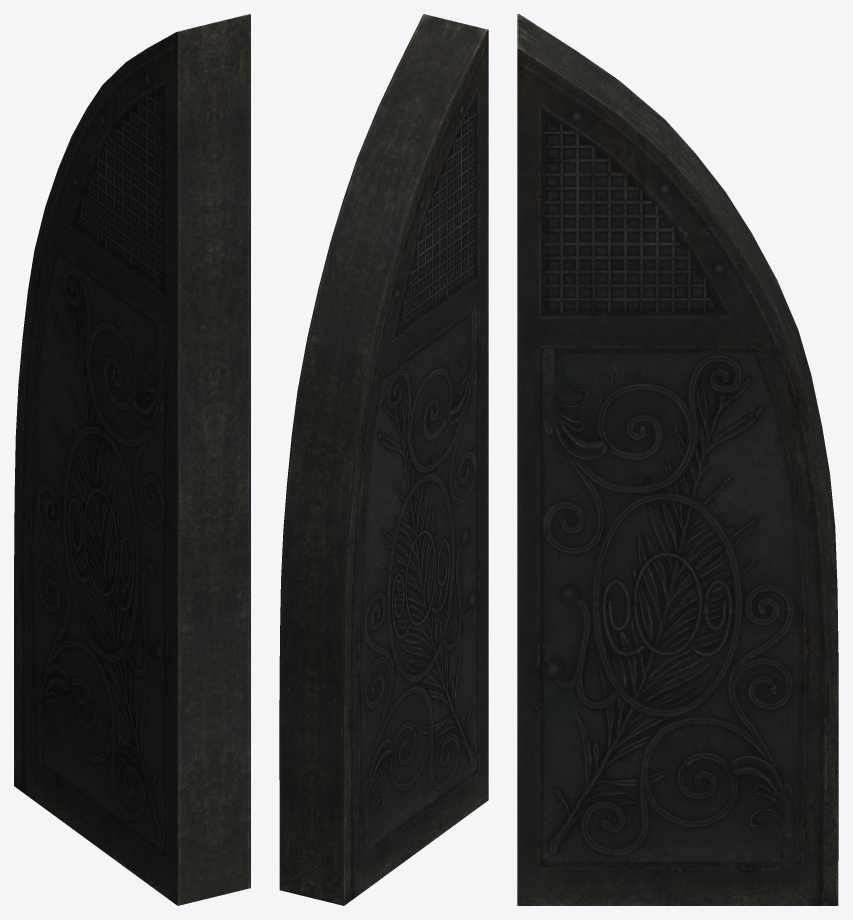
Rendered from SM_door.FBX.
The picture shows the model from 3 angles, left to right: view 1: azimuth 30°, elevation 25°; view 2: azimuth 150°, elevation 25°; view 3: azimuth 270°, elevation 25°; orthographic projection. The views are drawn at different scales.
Visible parts, largest first — view 1: SM_door; view 2: SM_door; view 3: SM_door.
Boxes of the visible parts, left/top/right/bottom form: SM_door: left=14, top=14, right=250, bottom=905; SM_door: left=279, top=14, right=488, bottom=905; SM_door: left=517, top=14, right=838, bottom=905.
Size of what is drawn, in the model's own units: 29.1 by 113 by 332.
